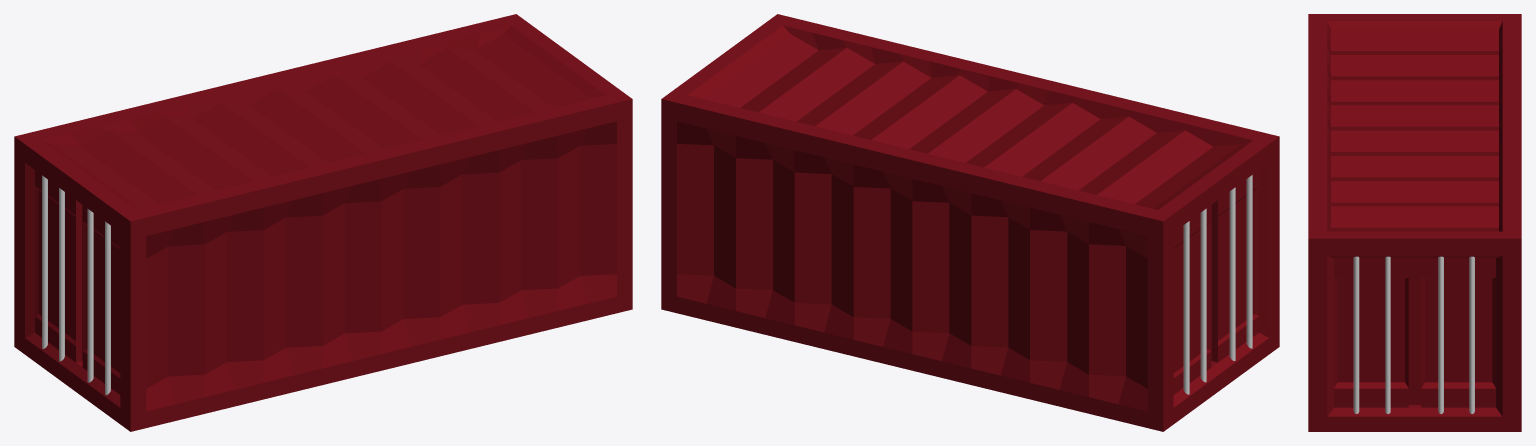
Rendered from red_container.fbx.
3 renders of one model, left to right at view 1: azimuth 30°, elevation 25°; view 2: azimuth 150°, elevation 25°; view 3: azimuth 270°, elevation 25°, orthographic. The views are drawn at different scales.
Parts seen in each view (by area): view 1: Cube, Cylinder.002, Cylinder, Cylinder.003, Cylinder.001; view 2: Cube, Cylinder.002, Cylinder, Cylinder.001, Cylinder.003; view 3: Cube, Cylinder.004, Cylinder.005, Cylinder.006, Cylinder.007.
Boxes of the visible parts, x1=… form: Cube: x1=14, y1=14, x2=632, y2=431; Cylinder.002: x1=87, y1=209, x2=93, y2=382; Cylinder: x1=59, y1=188, x2=64, y2=361; Cylinder.003: x1=105, y1=221, x2=110, y2=395; Cylinder.001: x1=42, y1=175, x2=47, y2=348; Cube: x1=661, y1=14, x2=1279, y2=431; Cylinder.002: x1=1229, y1=187, x2=1235, y2=360; Cylinder: x1=1200, y1=208, x2=1206, y2=382; Cylinder.001: x1=1183, y1=221, x2=1189, y2=394; Cylinder.003: x1=1246, y1=175, x2=1252, y2=348; Cube: x1=1308, y1=14, x2=1521, y2=431; Cylinder.004: x1=1353, y1=256, x2=1359, y2=413; Cylinder.005: x1=1385, y1=256, x2=1390, y2=413; Cylinder.006: x1=1469, y1=256, x2=1474, y2=413; Cylinder.007: x1=1438, y1=256, x2=1443, y2=413.
Size of the model in its own units: 4.99 by 2 by 2.
